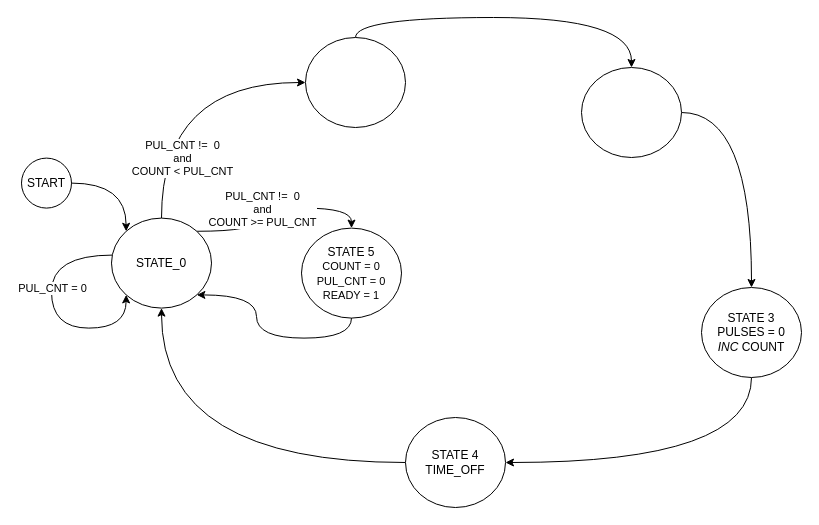
This 819x525 diagram has some shape labels left out. Each missing label, with the centre of its shape:
STATE 1 PULSES = 1 READY = 0: pixel 355 82
STATE 2 TIME_ON: pixel 631 112
